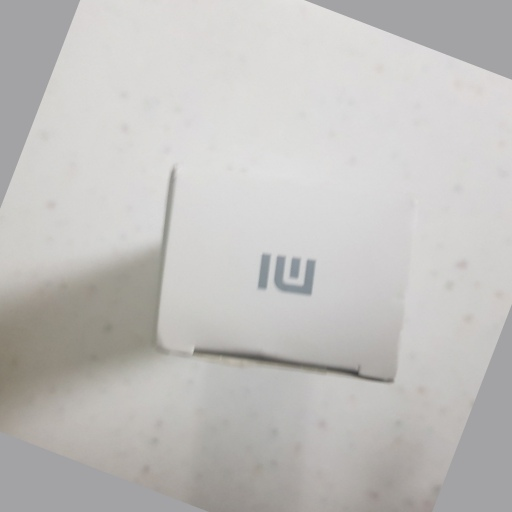Paper_0: (147, 158, 426, 397)
